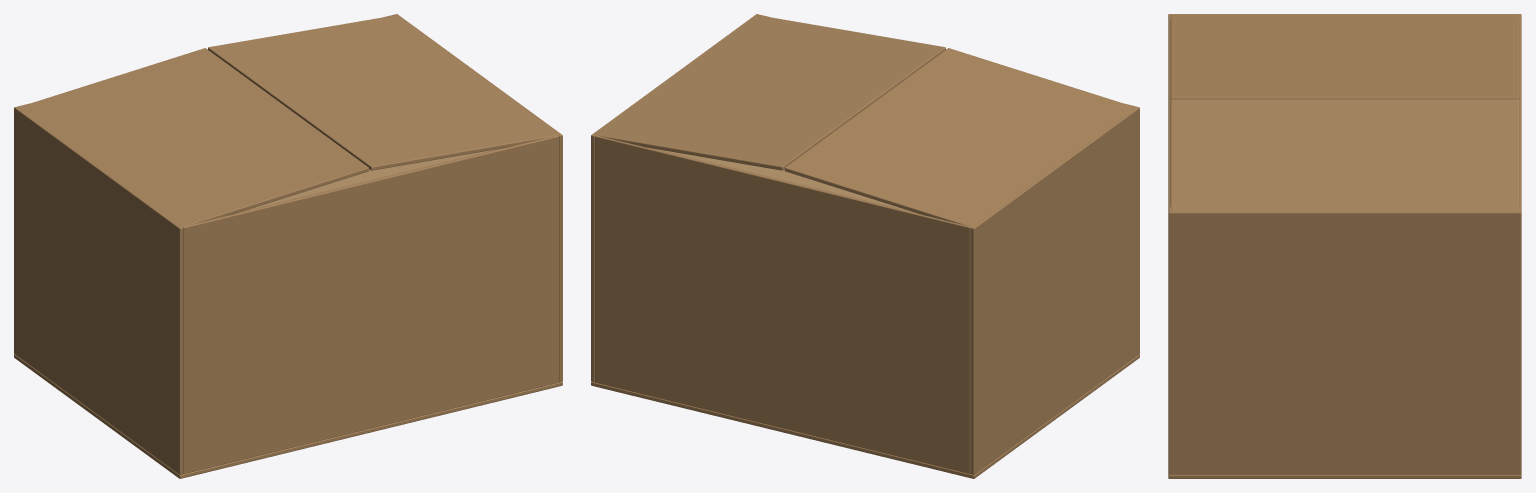
The model's file is cardboard_box.glb.
3 renders of one model, left to right at view 1: azimuth 30°, elevation 25°; view 2: azimuth 150°, elevation 25°; view 3: azimuth 270°, elevation 25°, orthographic. The views are drawn at different scales.
Parts seen in each view (by area): view 1: wall_y_-1, wall_x_-1, outer_flap_-1, outer_flap_1, bottom, wall_x_1, inner_flap_-1; view 2: wall_y_1, wall_x_-1, outer_flap_-1, outer_flap_1, bottom, wall_x_1, inner_flap_1; view 3: wall_x_1, outer_flap_1, outer_flap_-1, bottom, wall_y_1, wall_y_-1.
Part boxes in pixels (<box>): wall_y_-1: <box>182,135,558,473</box>; wall_x_-1: <box>14,106,183,474</box>; outer_flap_-1: <box>18,48,369,226</box>; outer_flap_1: <box>208,15,558,170</box>; bottom: <box>14,354,562,478</box>; wall_x_1: <box>394,14,562,382</box>; inner_flap_-1: <box>243,149,496,211</box>; wall_y_1: <box>595,135,971,473</box>; wall_x_-1: <box>970,106,1139,474</box>; outer_flap_-1: <box>784,48,1135,226</box>; outer_flap_1: <box>595,15,945,170</box>; bottom: <box>591,354,1139,478</box>; wall_x_1: <box>591,14,759,382</box>; inner_flap_1: <box>657,149,910,211</box>; wall_x_1: <box>1168,211,1521,474</box>; outer_flap_1: <box>1170,99,1519,211</box>; outer_flap_-1: <box>1170,15,1519,99</box>; bottom: <box>1168,474,1521,478</box>; wall_y_1: <box>1519,16,1521,211</box>; wall_y_-1: <box>1168,16,1170,211</box>.
Size of the model in its own units: 0.4 by 0.2637 by 0.3.
